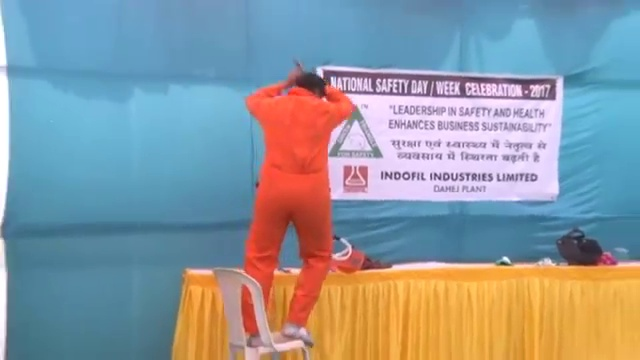helmet_off: (292, 69, 328, 100)
person: (241, 67, 353, 349)
